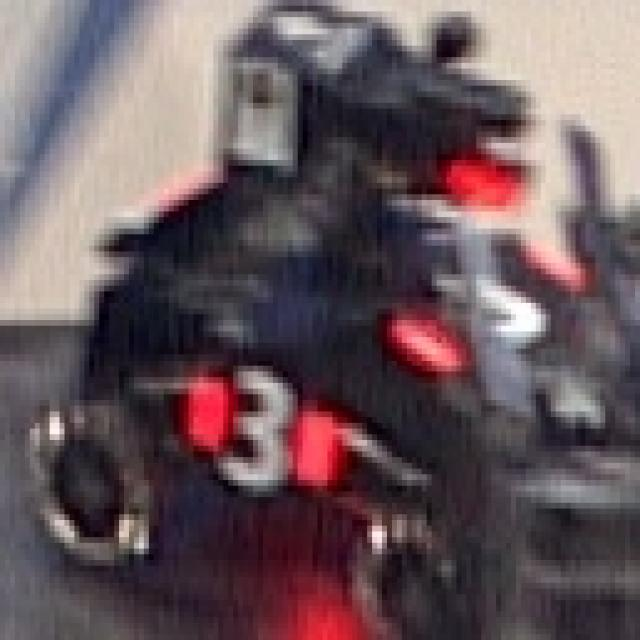R3: (389, 220, 588, 386), (176, 329, 345, 517)
